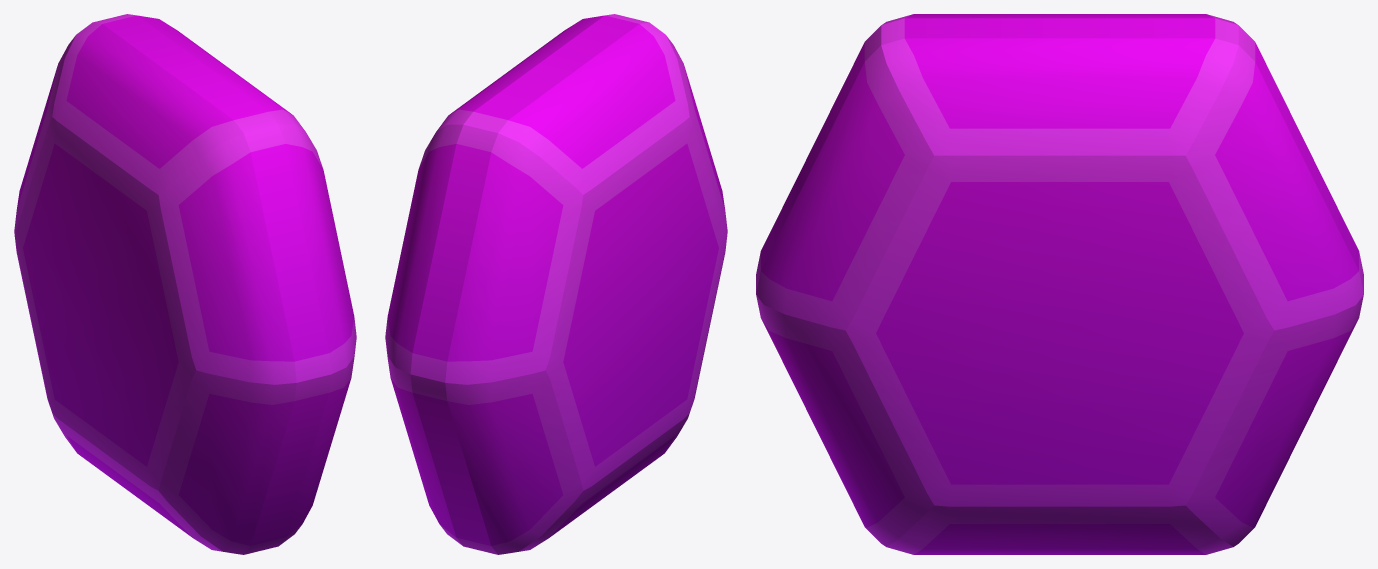
File: Gem_V2_02.fbx
3 renders of one model, left to right at view 1: azimuth 30°, elevation 25°; view 2: azimuth 150°, elevation 25°; view 3: azimuth 270°, elevation 25°, orthographic. The views are drawn at different scales.
Visible parts, largest first — view 1: Gem_V2_02; view 2: Gem_V2_02; view 3: Gem_V2_02.
Part boxes in pixels (box(x1,y1,x2,y2)): Gem_V2_02: box(14, 14, 356, 554); Gem_V2_02: box(385, 14, 727, 554); Gem_V2_02: box(756, 14, 1363, 554).
Size of the model in its own units: 15.91 by 38.91 by 41.87.
